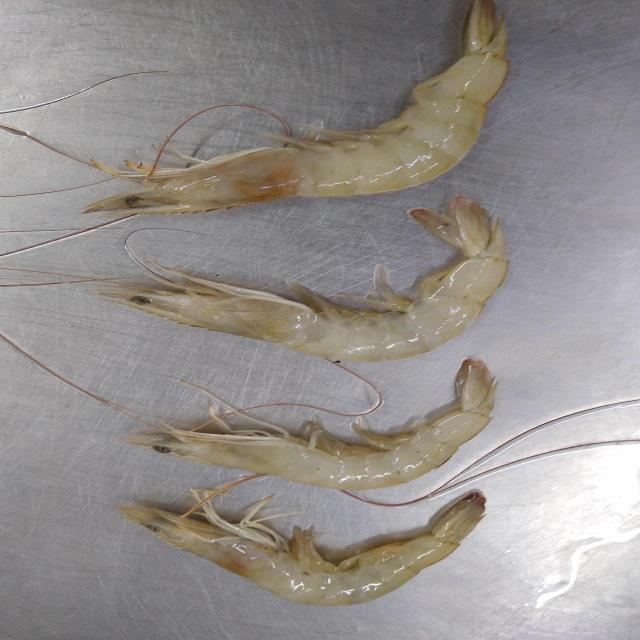shrimp: (84, 0, 509, 215), (100, 198, 509, 361), (124, 359, 496, 490), (118, 492, 487, 606)
